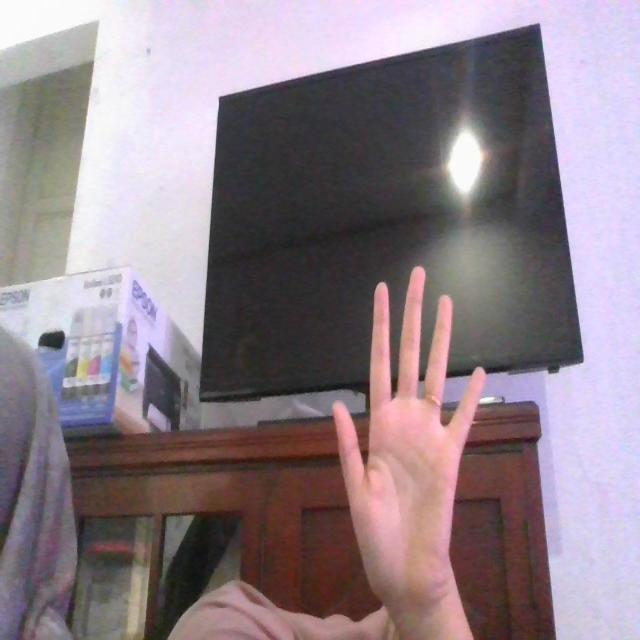hand: (322, 263, 484, 640)
